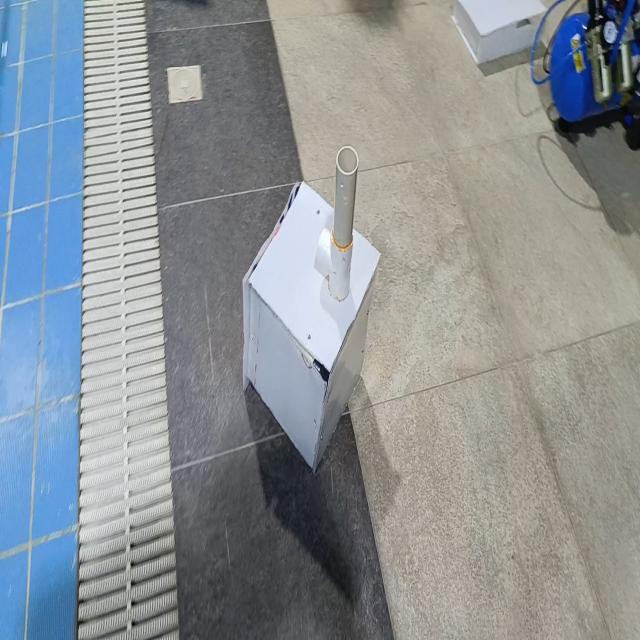Cube: (241, 178, 381, 473), (451, 0, 548, 65)
